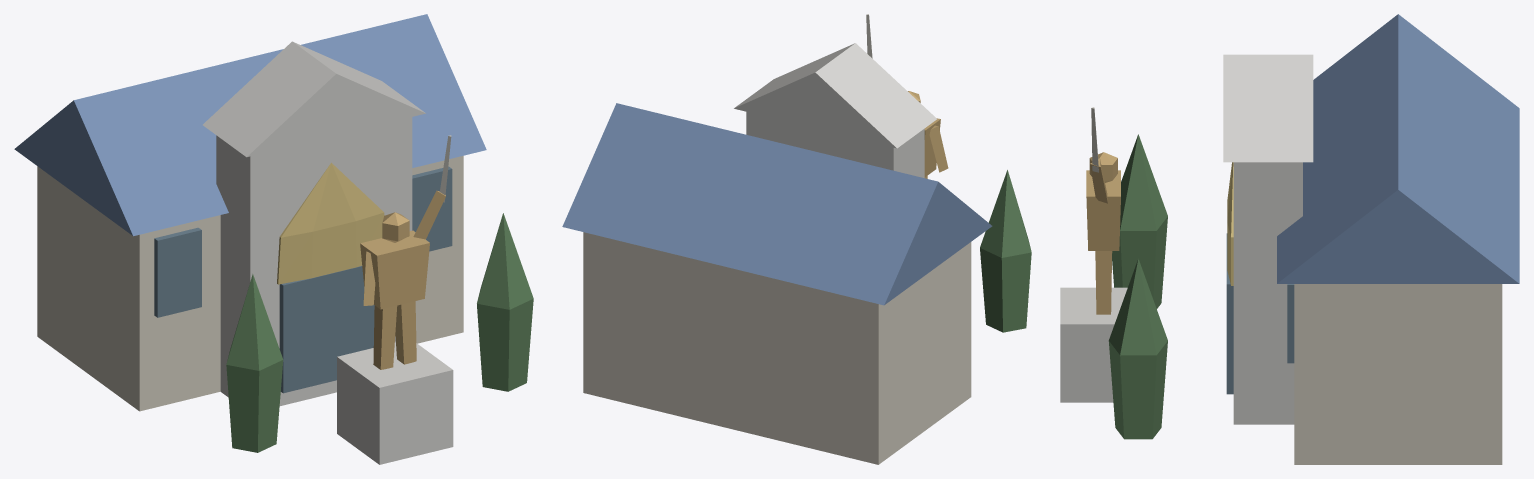
Rendered from national-national-epic.glb.
3 renders of one model, left to right at view 1: azimuth 30°, elevation 25°; view 2: azimuth 150°, elevation 25°; view 3: azimuth 270°, elevation 25°, orthographic. The views are drawn at different scales.
Parts seen in each view (by area): view 1: LOD0; view 2: LOD0; view 3: LOD0.
Part boxes in pixels (<box>): LOD0: <box>14,14,533,464</box>; LOD0: <box>562,14,1031,464</box>; LOD0: <box>1060,14,1519,464</box>.
Size of what is drawn, in the model's own units: 0.24 by 0.21 by 0.265.
